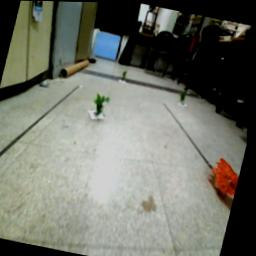herb: (93, 93, 114, 120), (180, 89, 191, 105), (122, 71, 130, 83)
wild: (209, 155, 246, 200)
